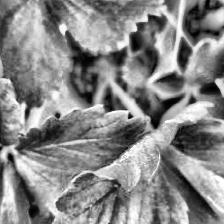Powdery Mildew Leaf: (45, 101, 214, 224)
